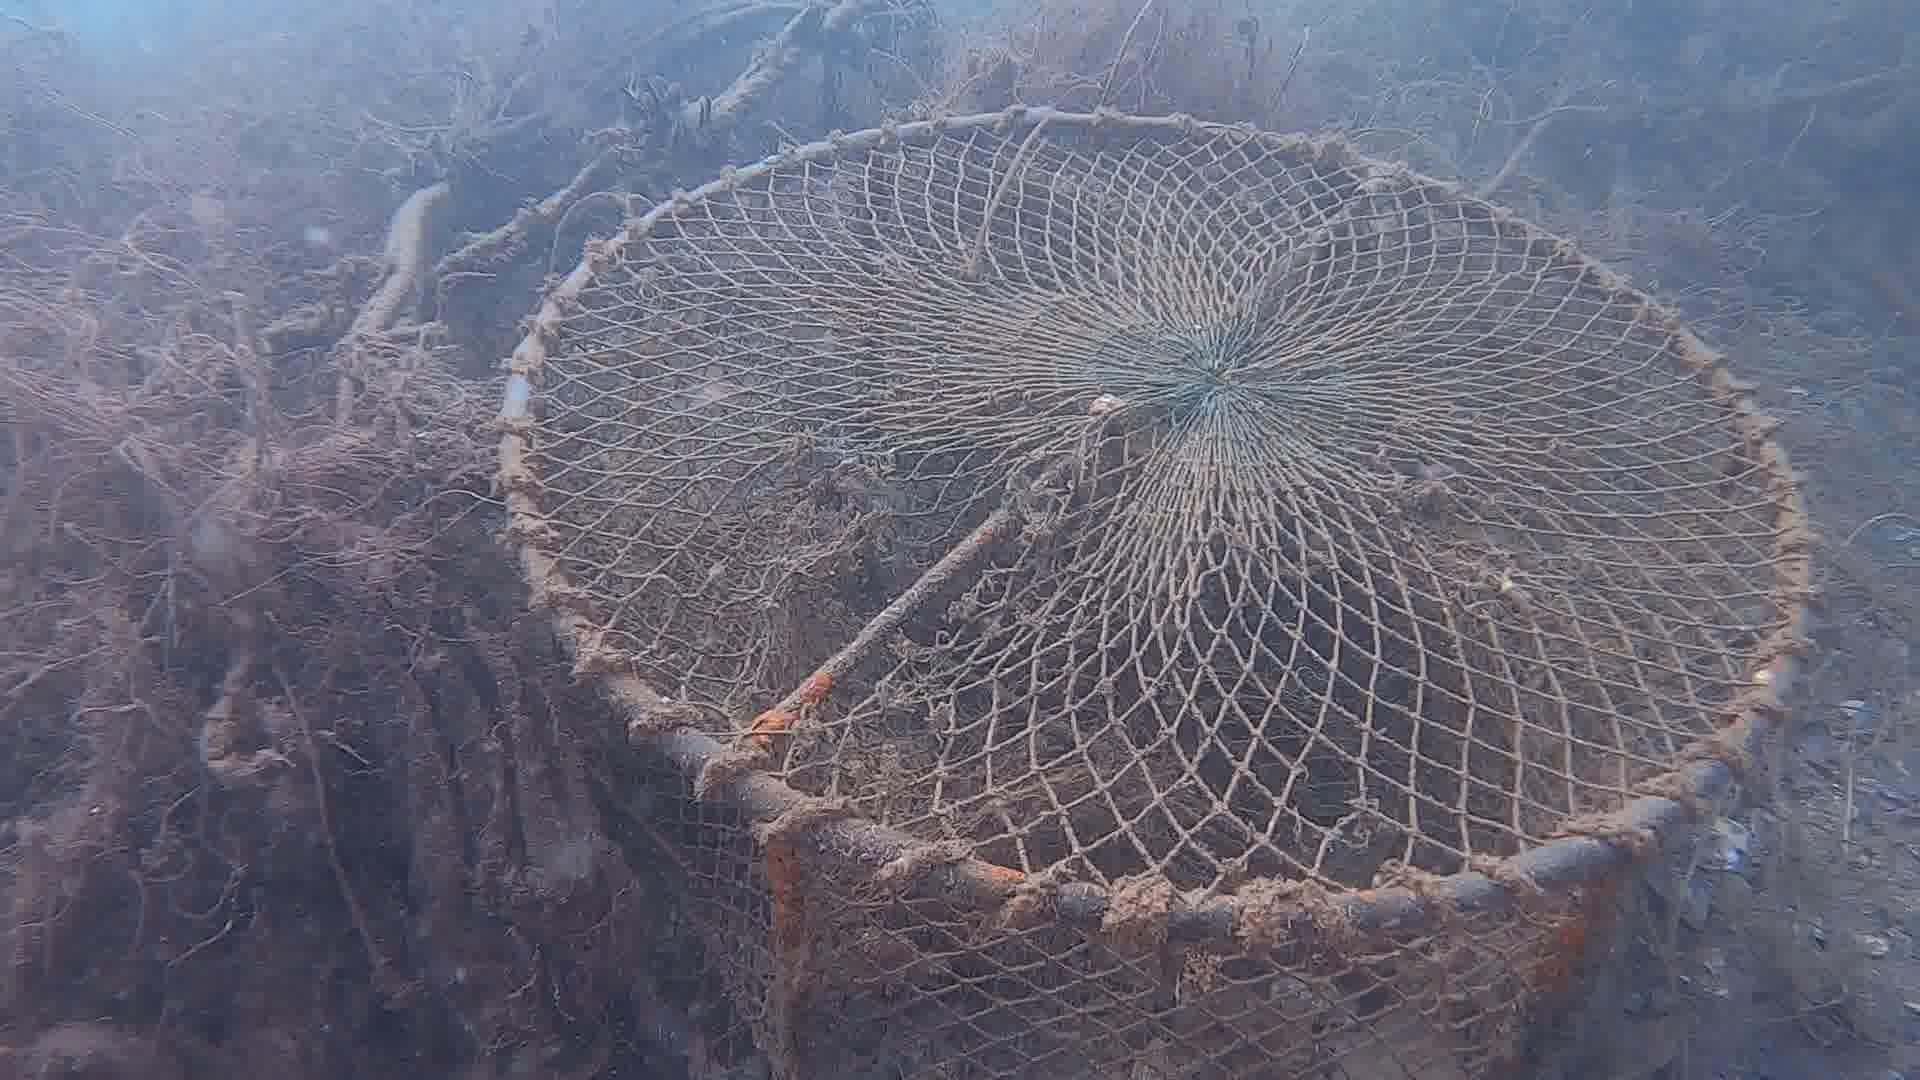circular fish trap: (491, 103, 1824, 1080)
